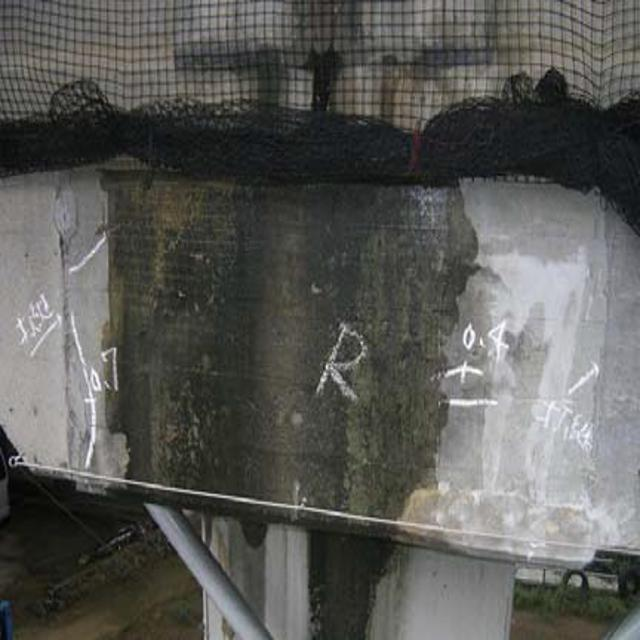leakage: (91, 155, 498, 534)
